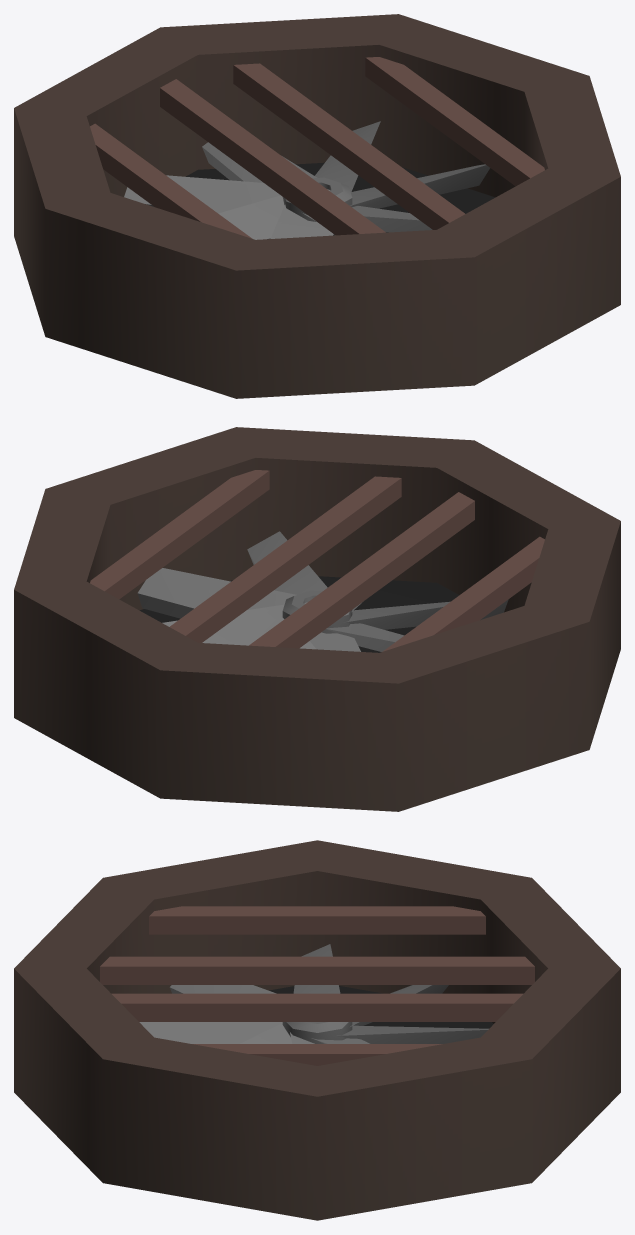
Rendered from Turbine_1_D.fbx.
The picture shows the model from 3 angles, top to bottom: view 1: azimuth 30°, elevation 25°; view 2: azimuth 150°, elevation 25°; view 3: azimuth 270°, elevation 25°; orthographic projection. The views are drawn at different scales.
Parts seen in each view (by area): view 1: Turbine_1_D, Turbine_1W; view 2: Turbine_1_D, Turbine_1W; view 3: Turbine_1_D, Turbine_1W.
Part boxes in pixels (<box>): Turbine_1_D: <box>14,14,620,398</box>; Turbine_1W: <box>124,121,489,239</box>; Turbine_1_D: <box>14,427,620,811</box>; Turbine_1W: <box>137,531,508,651</box>; Turbine_1_D: <box>14,840,620,1220</box>; Turbine_1W: <box>139,944,488,1043</box>.
Bounding box in the file's own units: 127 × 28.62 × 127.
